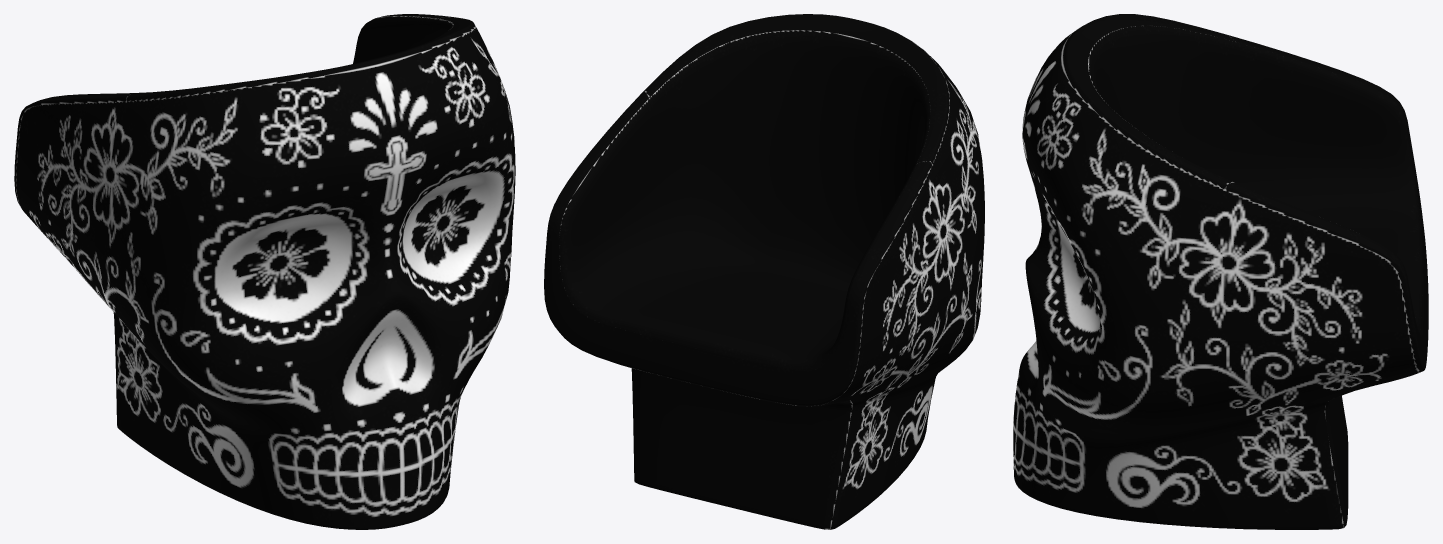
The picture shows the model from 3 angles, left to right: view 1: azimuth 30°, elevation 25°; view 2: azimuth 150°, elevation 25°; view 3: azimuth 270°, elevation 25°; orthographic projection. The views are drawn at different scales.
Visible parts, largest first — view 1: _Defintion (×4); view 2: _Defintion (×5); view 3: _Defintion (×5).
Boxes of the visible parts, bbox=[...] form: _Defintion (×4): bbox=[14, 14, 515, 529]; _Defintion (×5): bbox=[544, 14, 984, 529]; _Defintion (×5): bbox=[1013, 14, 1428, 529].
Bounding box in the file's own units: 28.85 × 29.81 × 33.42.
1 material, 1 textured.
